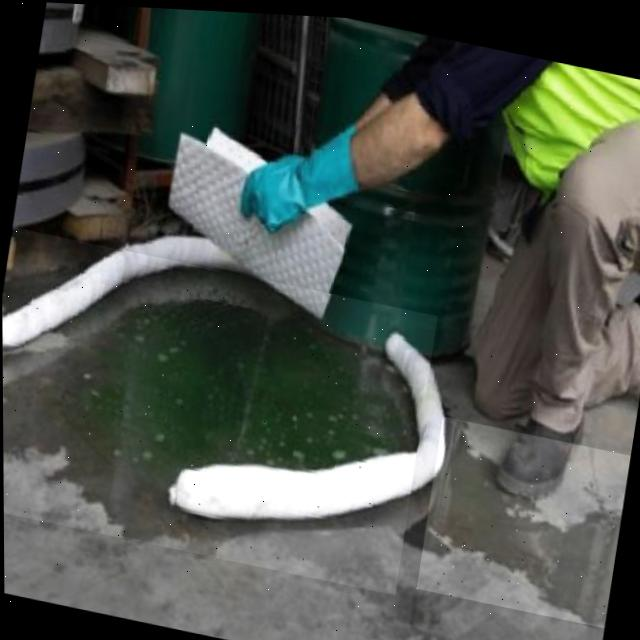spillage: (2, 267, 416, 541), (427, 414, 621, 618)
